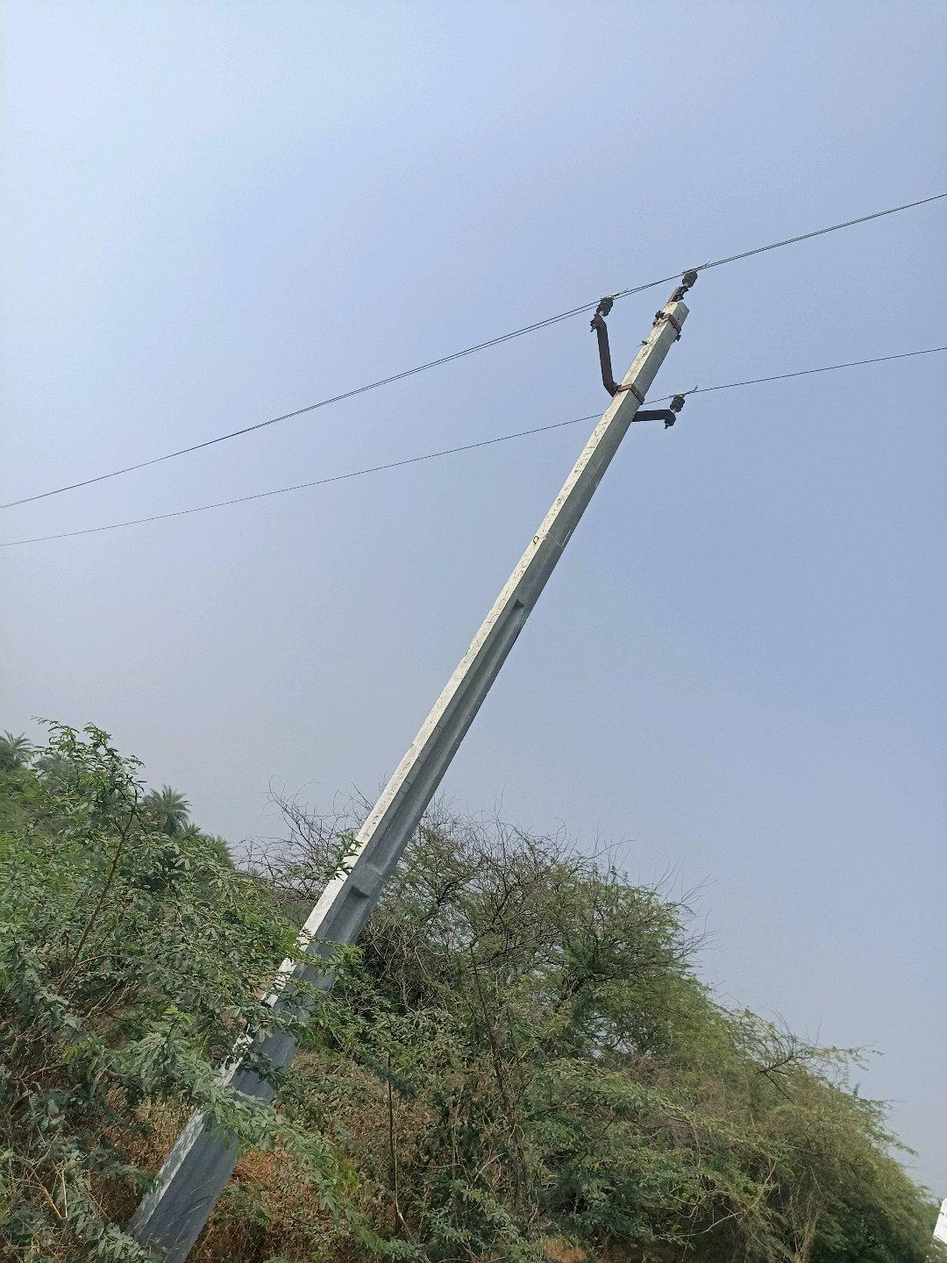{"0" "insulator", "1" "pole", "2" "crossarm", "3" "conductor", "4" "street_: (229, 270, 698, 1099), (130, 1114, 236, 1262), (652, 396, 684, 421)
